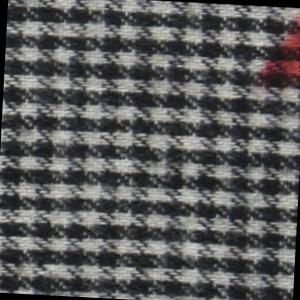Stain: (259, 7, 300, 92)
